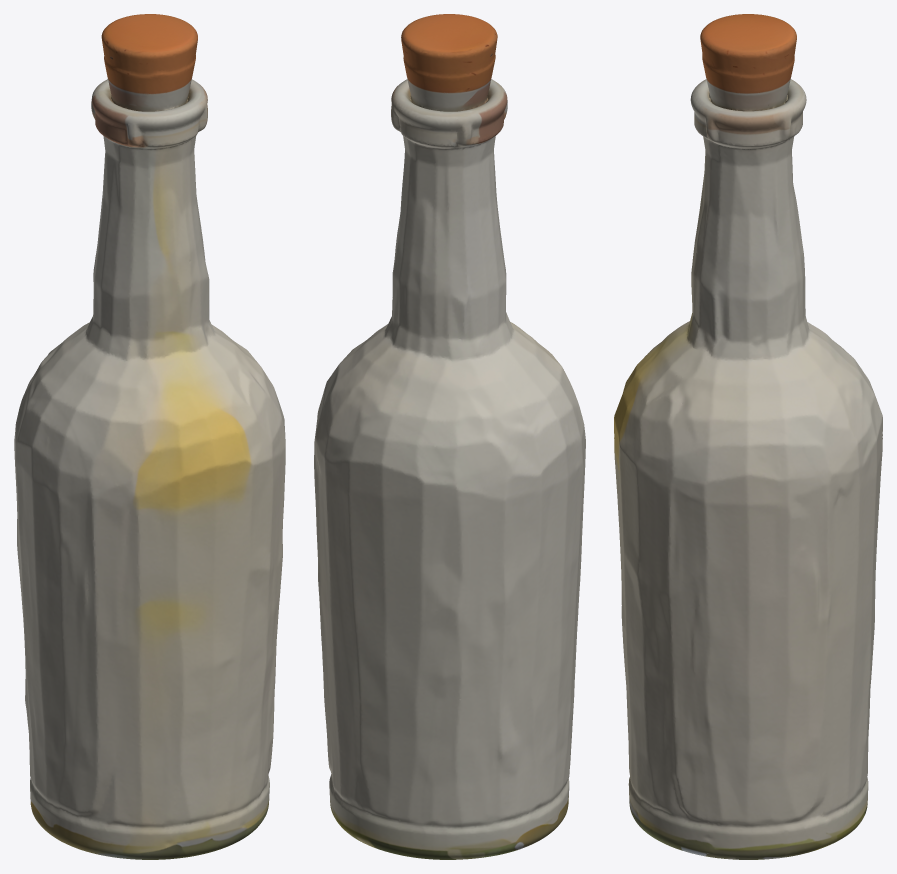
Rendered from glass.glb.
3 renders of one model, left to right at view 1: azimuth 30°, elevation 25°; view 2: azimuth 150°, elevation 25°; view 3: azimuth 270°, elevation 25°, orthographic.
Visible parts, largest first — view 1: tripo_node_0b6aedcf-d75d-4dbc-ac24-bf150689b656; view 2: tripo_node_0b6aedcf-d75d-4dbc-ac24-bf150689b656; view 3: tripo_node_0b6aedcf-d75d-4dbc-ac24-bf150689b656.
Boxes of the visible parts, box(x1,y1,x2,y2) form: tripo_node_0b6aedcf-d75d-4dbc-ac24-bf150689b656: box(14, 14, 285, 859); tripo_node_0b6aedcf-d75d-4dbc-ac24-bf150689b656: box(314, 14, 585, 859); tripo_node_0b6aedcf-d75d-4dbc-ac24-bf150689b656: box(614, 14, 882, 859).
Bounding box in the file's own units: 0.3152 × 1 × 0.3103.
Materials: 1 (1 with a texture image).
